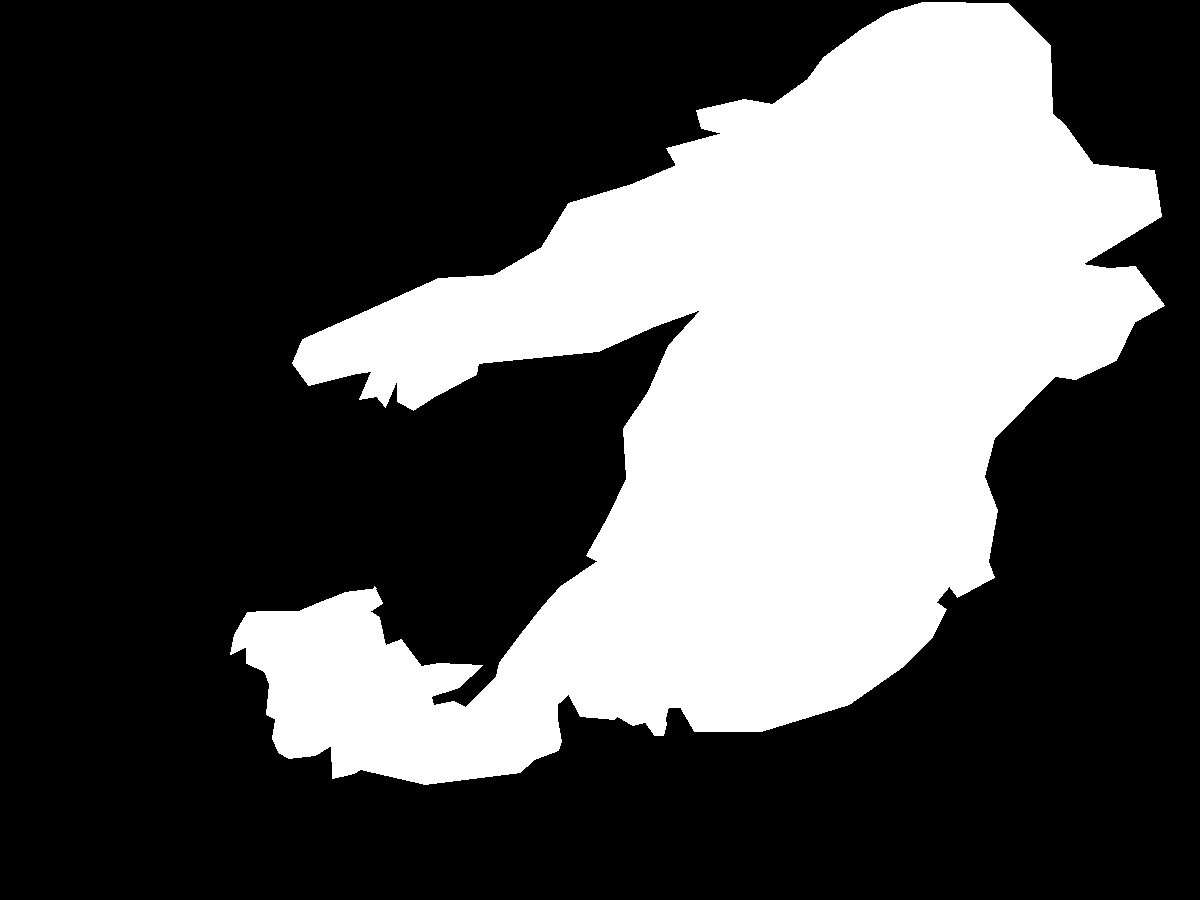Fire: (237, 561, 657, 783)
